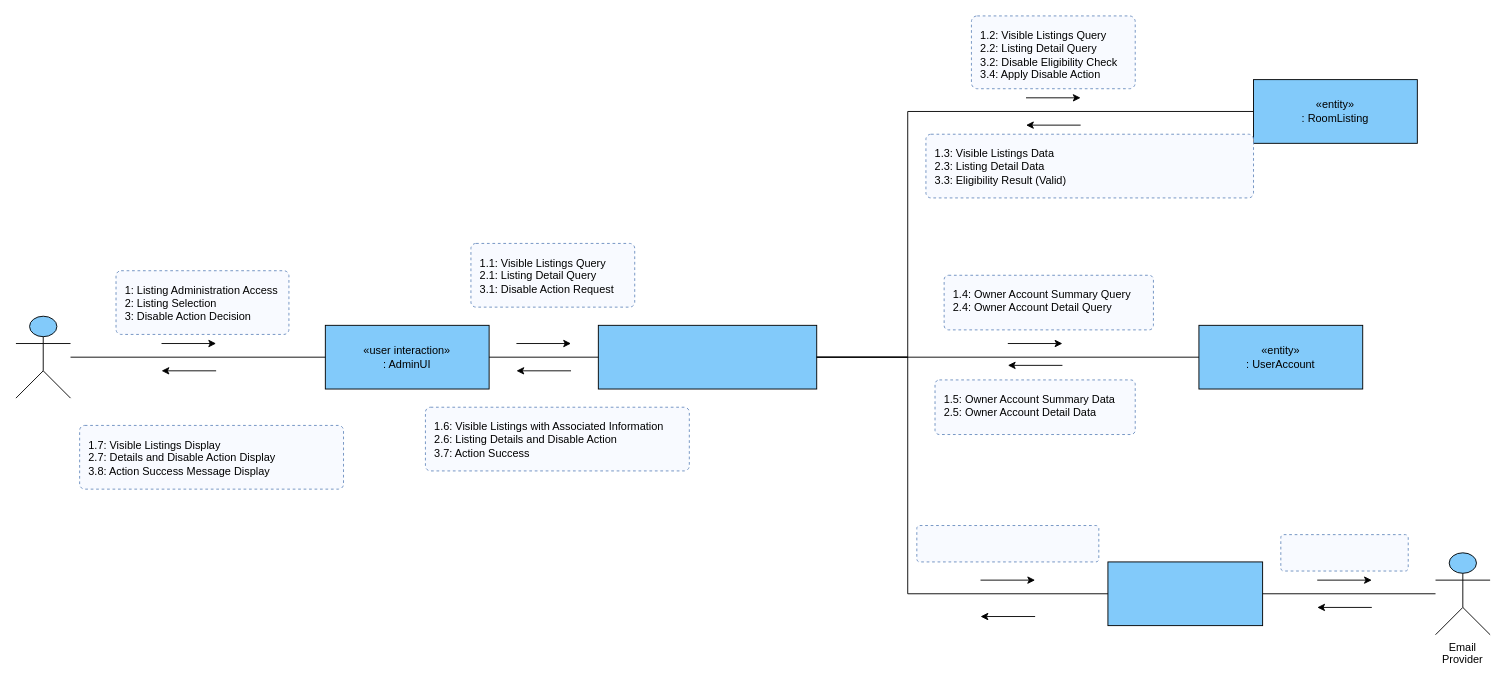
Some shapes in this 1506 by 683 pixel diagram are drawn without their labels. The centre of each missing label's shape, as x and y in pixels:
"3.5: Owner Notification Request" goes at point (1007, 543).
"3.6: Owner Notification" goes at point (1344, 552).
"System Admin" goes at point (43, 356).
"«coordinator» : ControlListingCoordinator" goes at point (707, 356).
"«proxy» : EmailProxy" goes at point (1185, 593).
